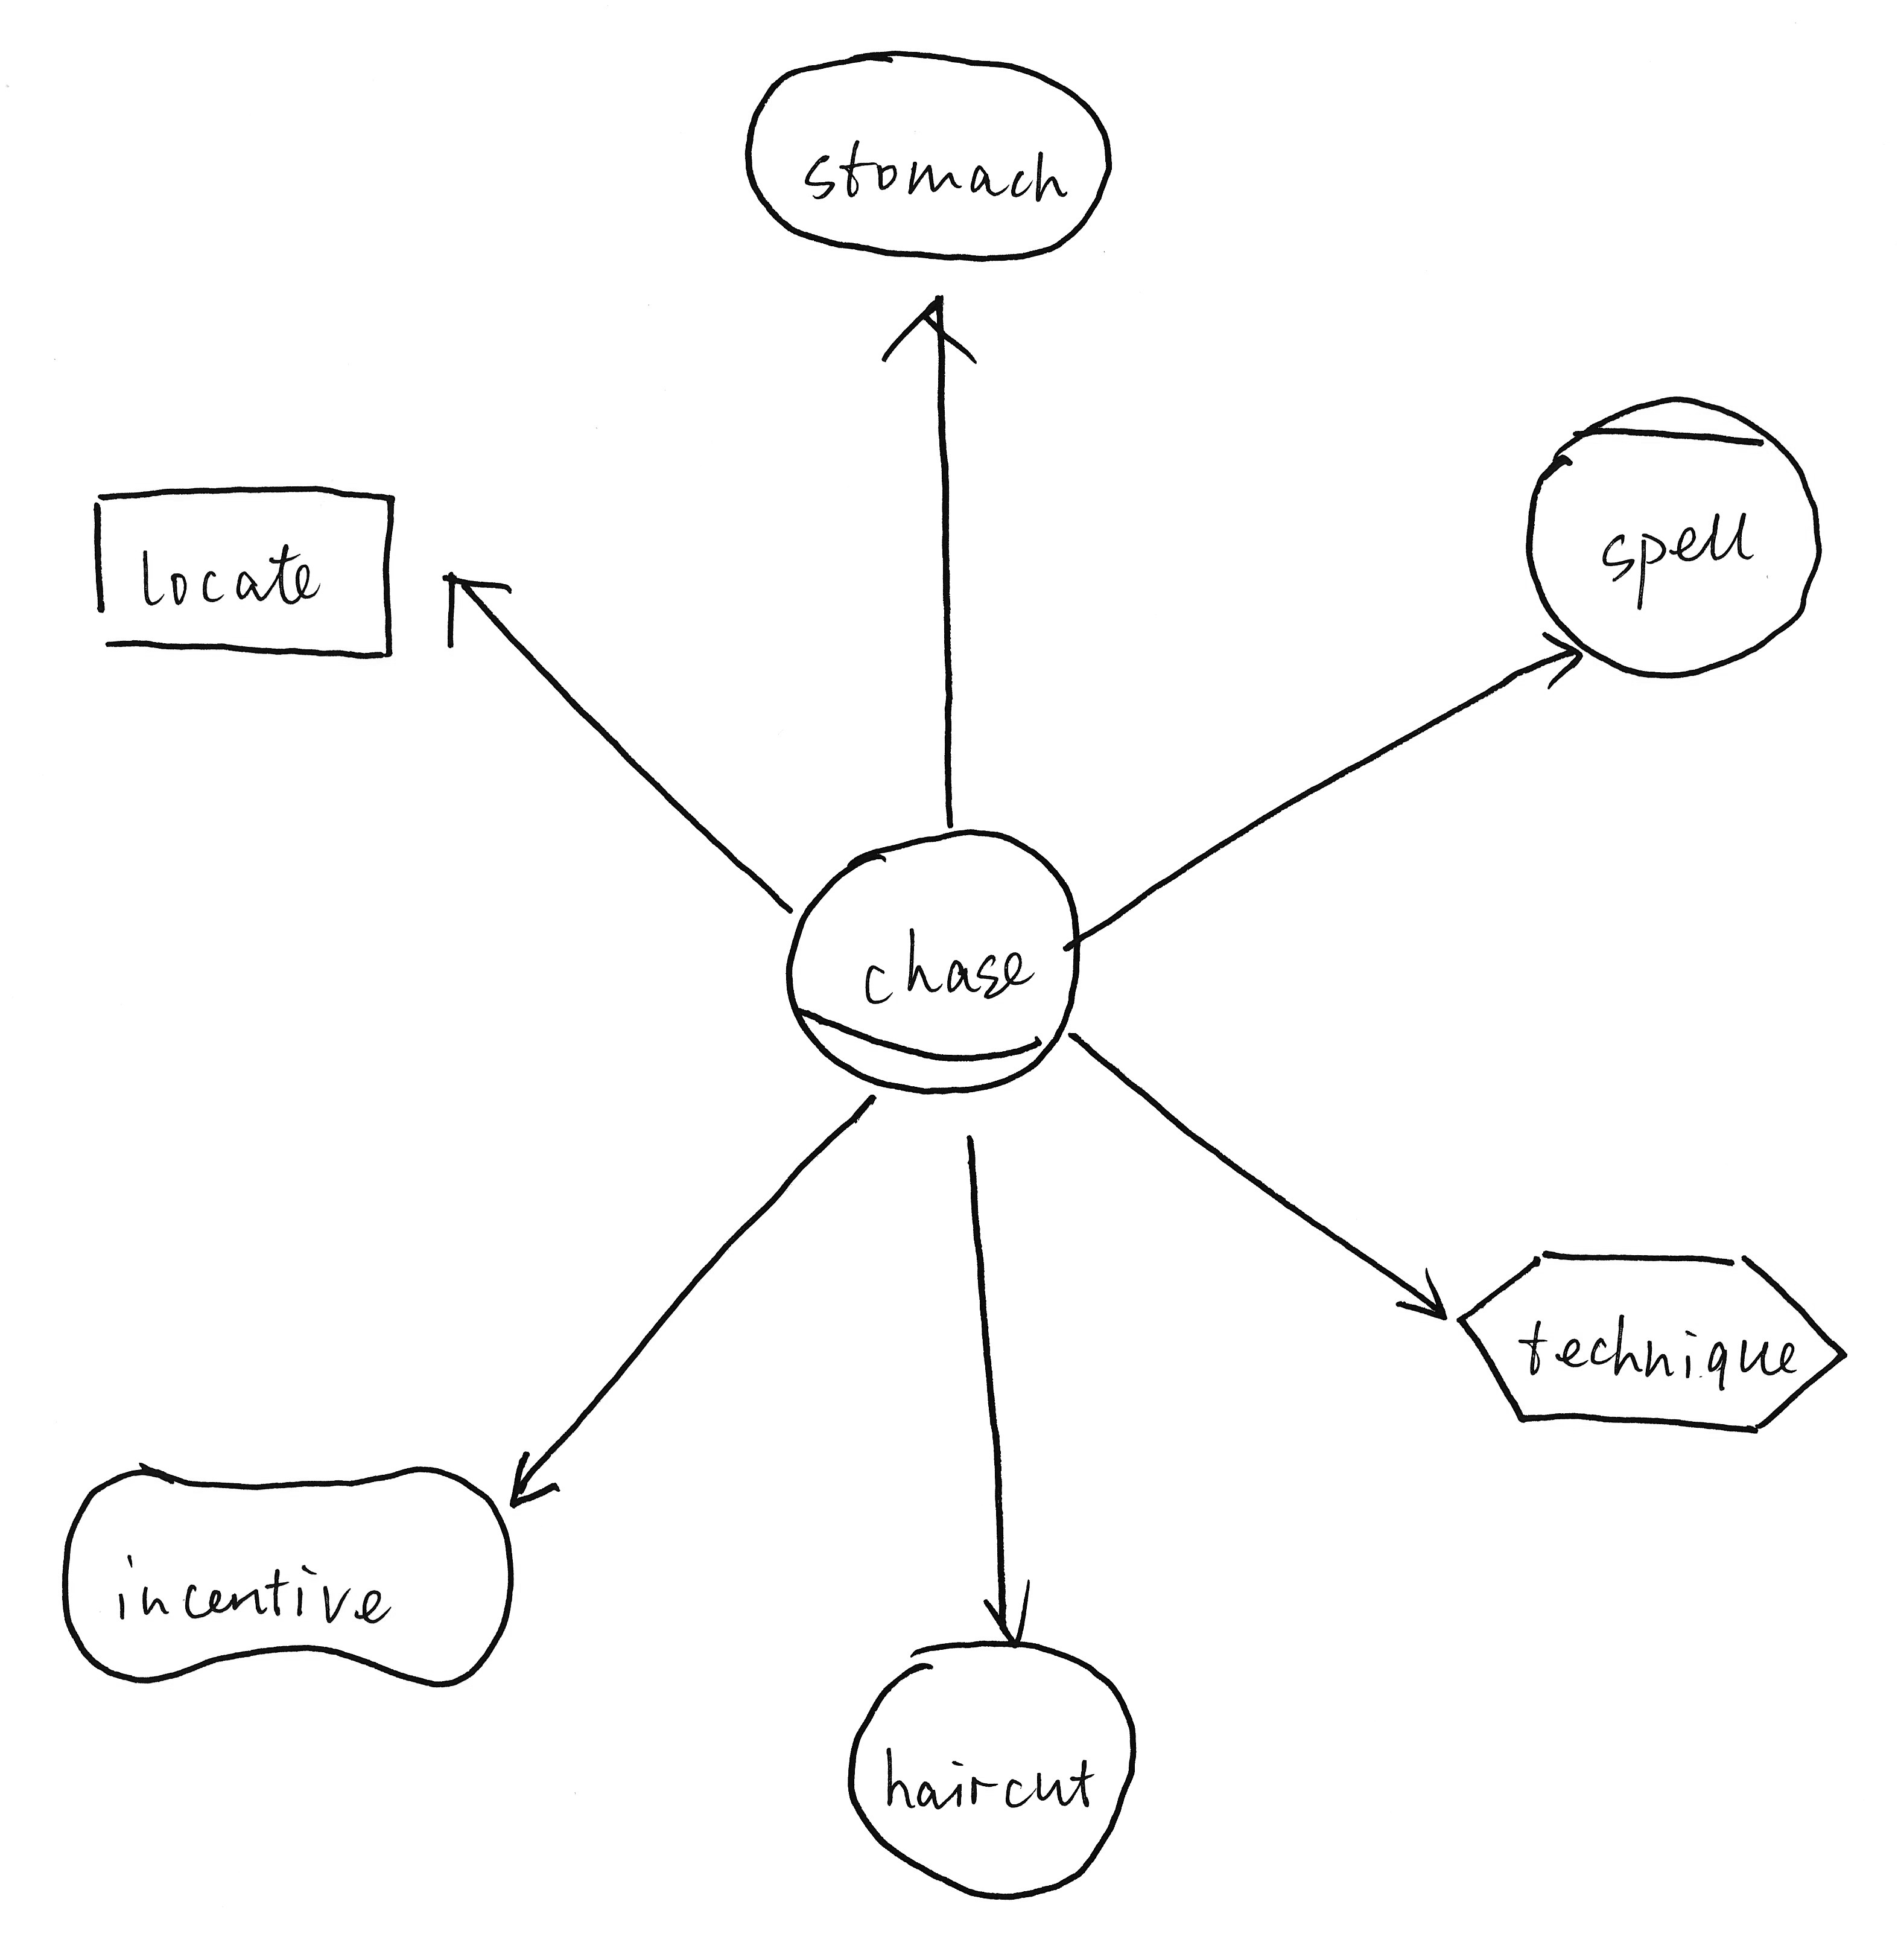actor: (1503, 380, 1839, 689), (826, 1624, 1153, 1911)
arrow: (878, 283, 1002, 381), (418, 558, 528, 663), (959, 1577, 1048, 1657), (500, 1435, 570, 1535), (1389, 1248, 1457, 1337), (1529, 616, 1592, 710)
goal: (731, 28, 1128, 280)
quality: (42, 1440, 534, 1715)
resource: (70, 458, 416, 681)
role: (766, 810, 1095, 1108)
task: (1433, 1228, 1870, 1454)
